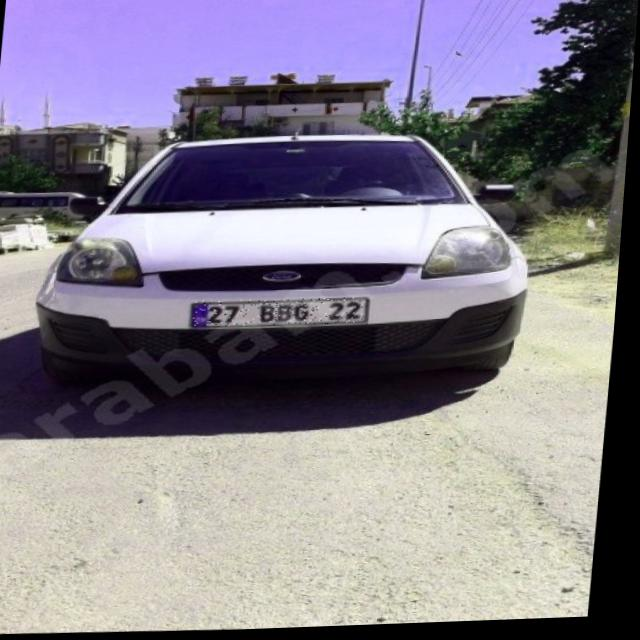license_plate: (195, 297, 373, 331)
